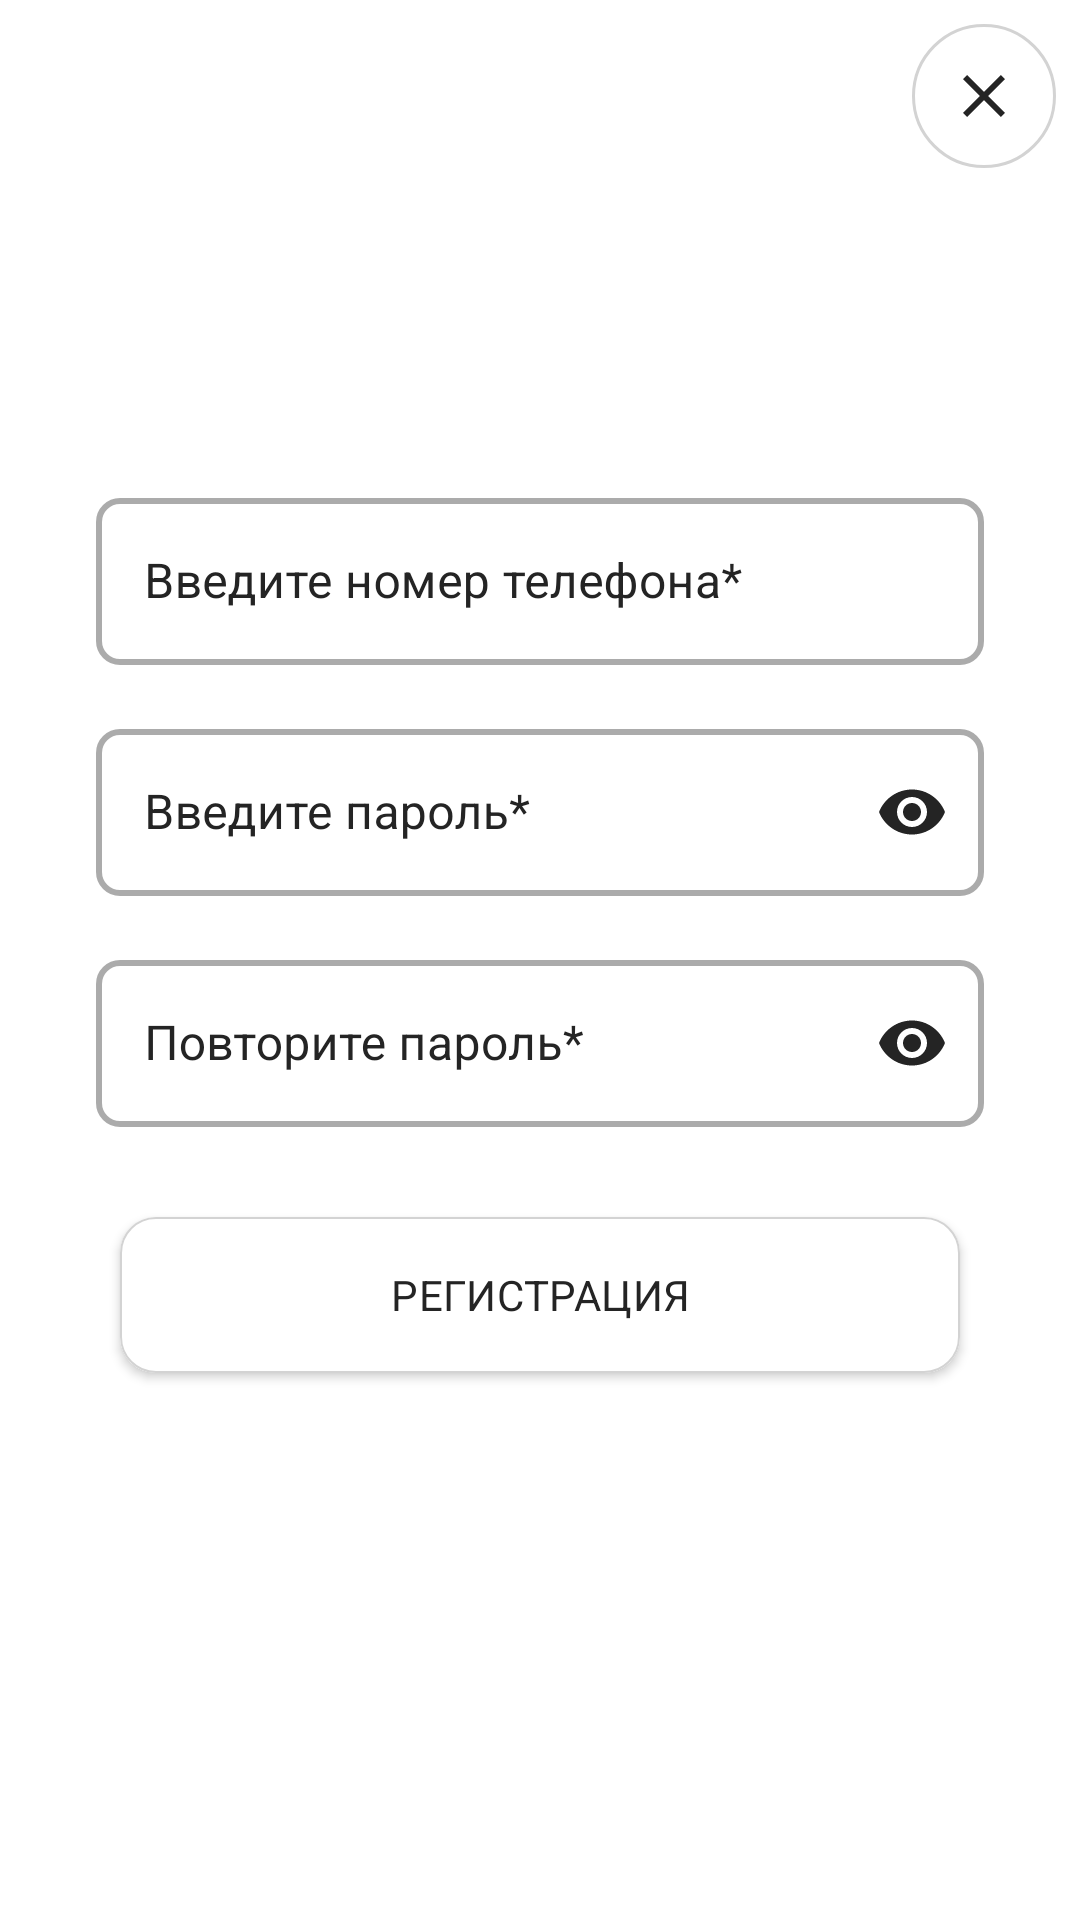

Icons on this 1080px x 1920px Android screen, each with its box as box=[x1, y1, x2, y2]:
cross: box=[912, 24, 1056, 168]
